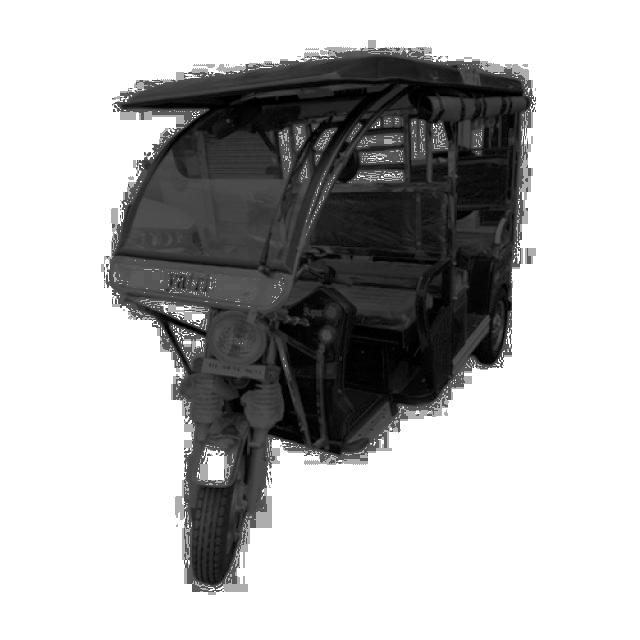Toto: (121, 52, 529, 585)
